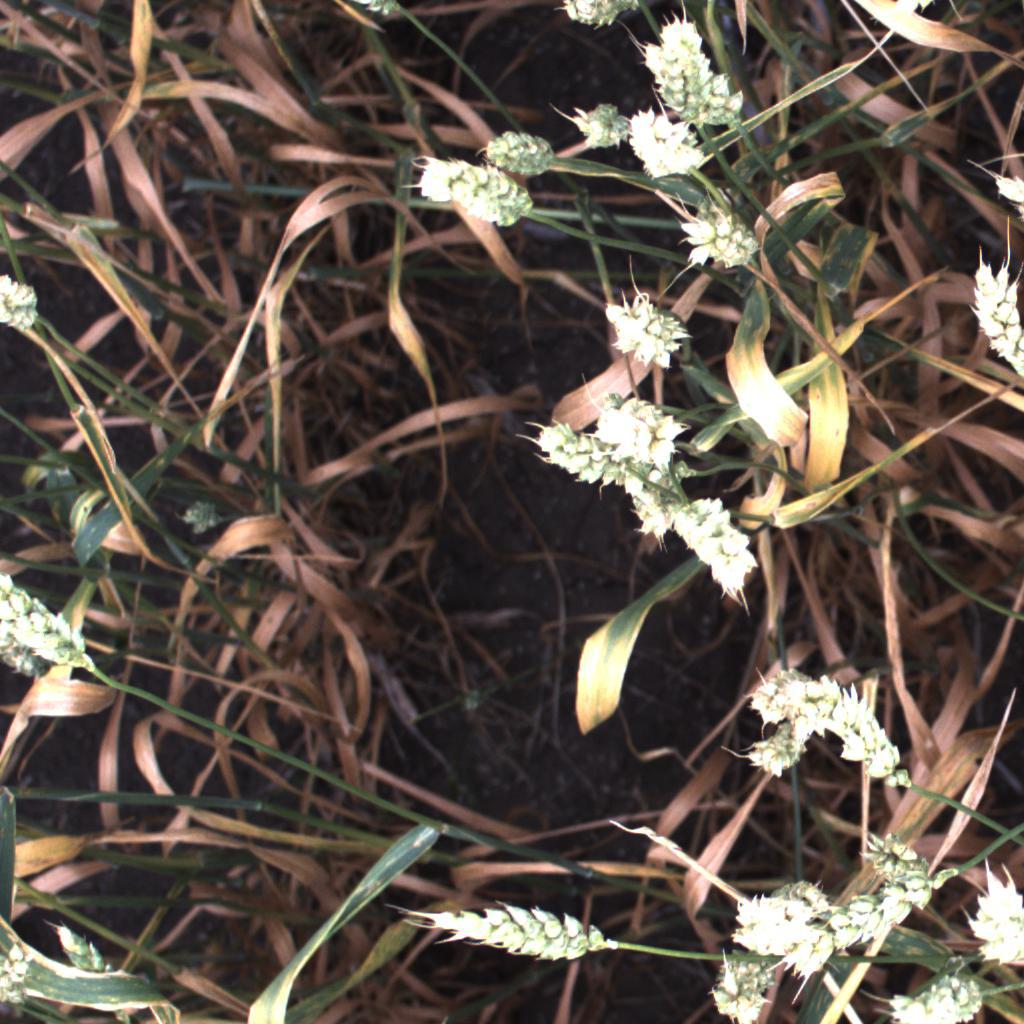0-0: (421, 879, 618, 978), (513, 407, 706, 497), (822, 851, 969, 955), (0, 559, 116, 687), (808, 676, 922, 803), (636, 20, 753, 143), (407, 143, 540, 246), (601, 387, 684, 550), (659, 489, 768, 601), (43, 913, 145, 1021), (960, 245, 1024, 406), (592, 282, 695, 382), (613, 97, 719, 194), (737, 696, 846, 786), (673, 188, 773, 284), (729, 895, 824, 983), (956, 865, 1024, 985), (872, 964, 1006, 1024), (588, 392, 684, 474), (696, 941, 782, 1023), (550, 93, 649, 156), (469, 122, 566, 186), (745, 653, 820, 735), (628, 36, 696, 124), (859, 826, 944, 892), (748, 871, 842, 930), (0, 609, 58, 691), (545, 0, 658, 35), (0, 267, 52, 342), (0, 935, 39, 1013), (990, 165, 1024, 231)
